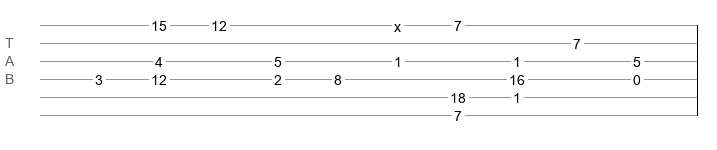0: (633, 72, 641, 82)
1: (394, 54, 402, 64), (513, 54, 521, 64), (513, 90, 521, 100)
12: (151, 72, 167, 82), (211, 18, 227, 28)
15: (151, 18, 167, 28)
16: (509, 72, 525, 82)
18: (450, 90, 466, 100)
2: (274, 72, 282, 82)
3: (95, 72, 103, 82)
4: (155, 54, 163, 64)
5: (274, 54, 282, 64), (633, 54, 641, 64)
7: (454, 108, 462, 118), (454, 18, 462, 28), (573, 36, 581, 46)
8: (334, 72, 342, 82)
x: (394, 19, 401, 27)
